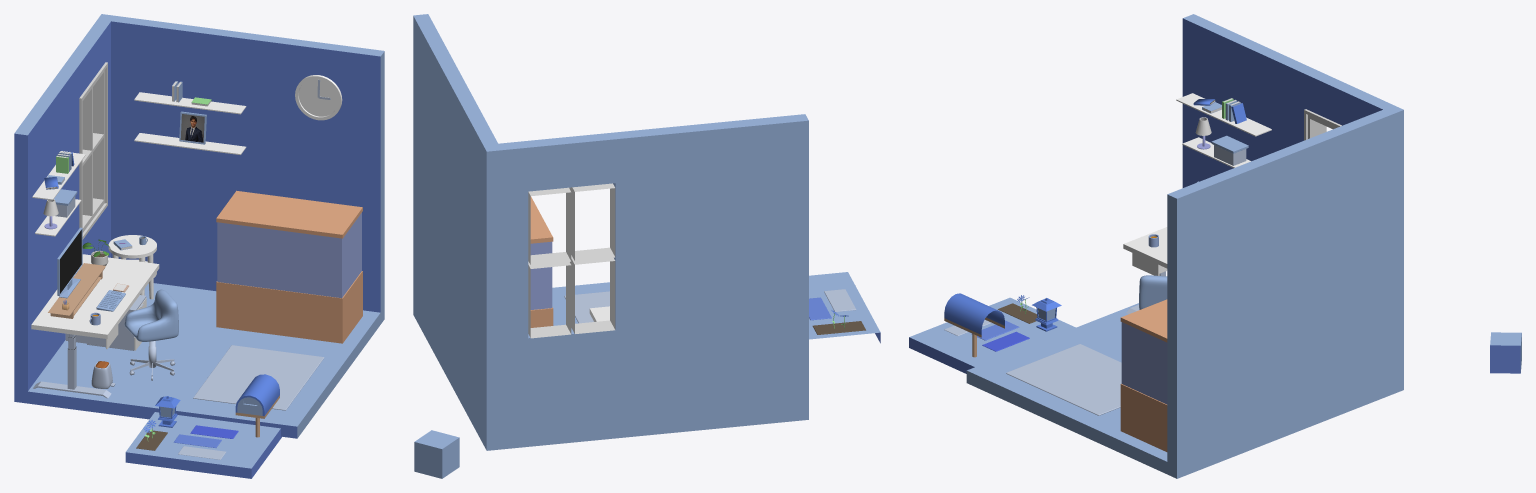
The picture shows the model from 3 angles, left to right: view 1: azimuth 30°, elevation 25°; view 2: azimuth 150°, elevation 25°; view 3: azimuth 270°, elevation 25°; orthographic projection. The views are drawn at different scales.
Parts seen in each view (by area): view 1: Body, Aquarium, Desks, Floor Items, Mini Floor, Shelves, Table Stuff, Chair, Clock, Mailbox, Computer, Lamp (+4 smaller); view 2: Body, Mini Floor, Aquarium, Cube, Floor Items, Dirt, FloorThird; view 3: Body, Aquarium, Floor Items, Mini Floor, Shelves, Mailbox, Desks, Cube, Chair, Lamp.
Part boxes in pixels (x1,y1,x2,y2): Body: (14, 14, 384, 438); Aquarium: (216, 190, 362, 343); Desks: (31, 235, 159, 398); Floor Items: (87, 295, 324, 410); Mini Floor: (125, 412, 281, 478); Shelves: (32, 81, 246, 236); Table Stuff: (48, 236, 147, 325); Chair: (124, 289, 178, 341); Clock: (295, 75, 342, 120); Mailbox: (235, 374, 279, 437); Computer: (57, 227, 82, 298); Lamp: (155, 396, 180, 427); Body: (413, 14, 808, 450); Mini Floor: (809, 272, 880, 343); Aquarium: (530, 196, 553, 327); Cube: (414, 430, 459, 478); Floor Items: (564, 291, 609, 323); Dirt: (812, 321, 865, 334); FloorThird: (824, 289, 856, 311); Body: (966, 14, 1403, 478); Aquarium: (1120, 299, 1167, 451); Floor Items: (1006, 344, 1121, 415); Mini Floor: (909, 297, 1075, 373); Shelves: (1176, 93, 1271, 167); Mailbox: (944, 293, 1004, 357); Desks: (1123, 227, 1167, 313); Cube: (1490, 332, 1521, 373); Chair: (1139, 275, 1167, 309); Lamp: (1032, 298, 1061, 331).
Bounding box in the file's own units: 27.58 × 19.65 × 38.64.
Materials: 42 (1 with a texture image).
